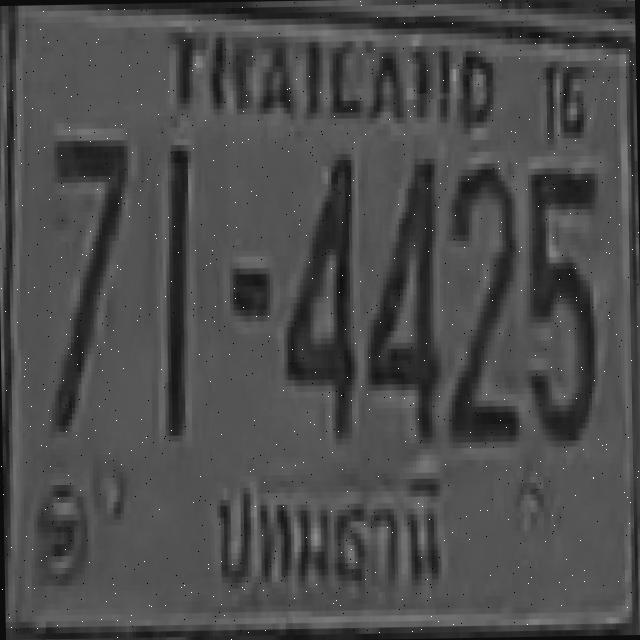1: (158, 142, 190, 432)
2: (442, 156, 517, 436)
4: (361, 152, 438, 438), (280, 148, 356, 434)
5: (522, 161, 600, 441)
7: (47, 136, 129, 428)
PathumThani: (203, 464, 459, 596)
